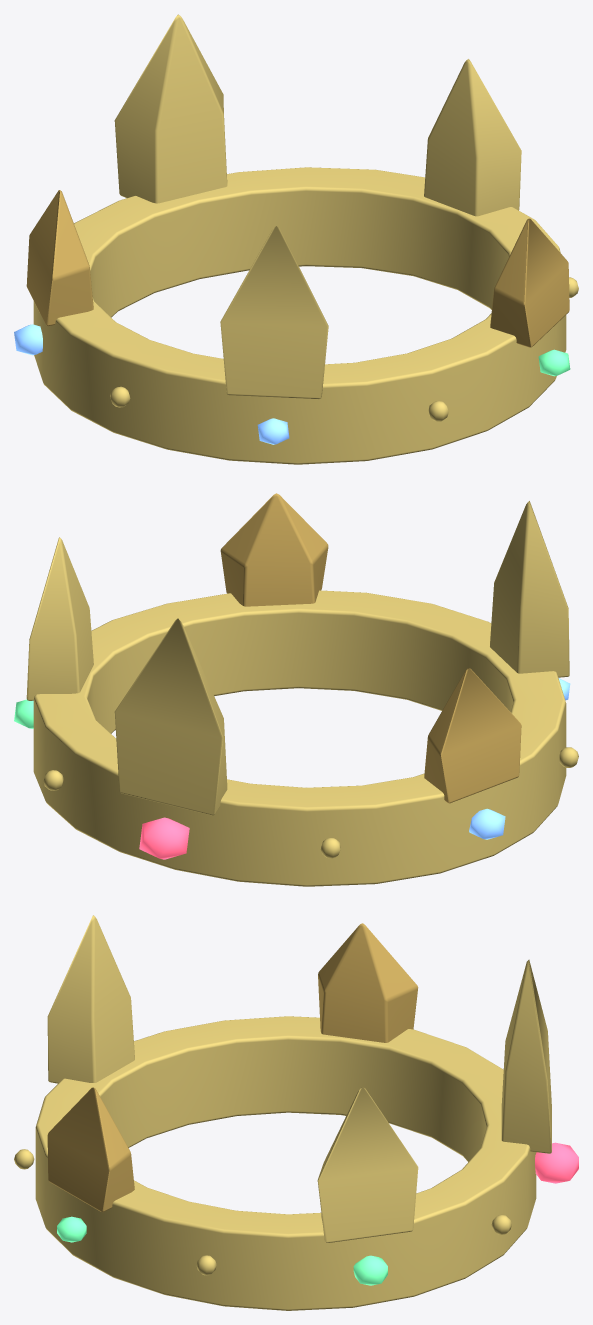
File: crown.glb
3 views of the same model, one above another, from view 1: azimuth 30°, elevation 25°; view 2: azimuth 150°, elevation 25°; view 3: azimuth 270°, elevation 25° (orthographic). The views are drawn at different scales.
Visible parts, largest first — view 1: HAT_Crown_Band, HAT_Crown_Spike0, HAT_Crown_Spike2, HAT_Crown_Spike4, HAT_Crown_Spike3, HAT_Crown_Spike1, HAT_Crown_Gem1, HAT_Crown_Gem3, HAT_Crown_Gem4; view 2: HAT_Crown_Band, HAT_Crown_Spike0, HAT_Crown_Spike2, HAT_Crown_Spike1, HAT_Crown_Spike3, HAT_Crown_Spike4, HAT_Crown_Gem0, HAT_Crown_Gem1; view 3: HAT_Crown_Band, HAT_Crown_Spike4, HAT_Crown_Spike2, HAT_Crown_Spike1, HAT_Crown_Spike3, HAT_Crown_Spike0, HAT_Crown_Gem0, HAT_Crown_Gem2, HAT_Crown_Gem4.
Boxes of the visible parts, x1,y1,x2,y2 form: HAT_Crown_Band: (33, 167, 566, 464); HAT_Crown_Spike0: (114, 14, 227, 203); HAT_Crown_Spike2: (220, 226, 328, 399); HAT_Crown_Spike4: (424, 59, 521, 216); HAT_Crown_Spike3: (490, 218, 569, 347); HAT_Crown_Spike1: (26, 190, 93, 326); HAT_Crown_Gem1: (14, 324, 42, 355); HAT_Crown_Gem3: (257, 418, 289, 444); HAT_Crown_Gem4: (538, 349, 570, 376); HAT_Crown_Band: (33, 590, 566, 886); HAT_Crown_Spike0: (114, 618, 227, 815); HAT_Crown_Spike2: (490, 501, 569, 677); HAT_Crown_Spike1: (424, 668, 521, 803); HAT_Crown_Spike3: (220, 493, 328, 606); HAT_Crown_Spike4: (26, 537, 93, 700); HAT_Crown_Gem0: (139, 817, 189, 859); HAT_Crown_Gem1: (469, 808, 505, 839); HAT_Crown_Band: (35, 1016, 536, 1310); HAT_Crown_Spike4: (317, 1087, 418, 1242); HAT_Crown_Spike2: (47, 915, 134, 1083); HAT_Crown_Spike1: (318, 923, 418, 1042); HAT_Crown_Spike3: (47, 1087, 134, 1212); HAT_Crown_Spike0: (501, 959, 551, 1153); HAT_Crown_Gem0: (535, 1142, 578, 1183); HAT_Crown_Gem2: (353, 1255, 387, 1285); HAT_Crown_Gem4: (57, 1216, 86, 1242).
Bounding box in the file's own units: 0.6398 × 0.3142 × 0.6635.
